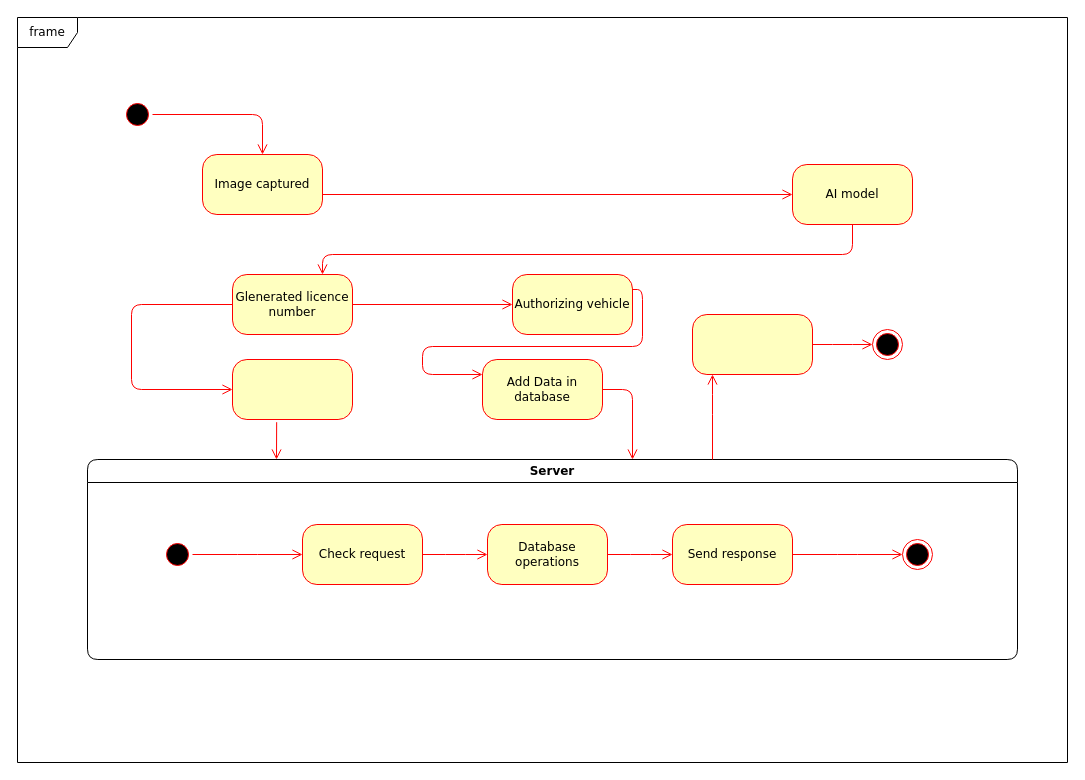
This 1085x780 diagram has some shape labels left out. The shapes that lost their labels are listed below. From the top down, each one's centre as x and y in pixels, then its label:
(752,344): Response form server: Autorize/Unautorized
(292,389): Varify vehicle from database
